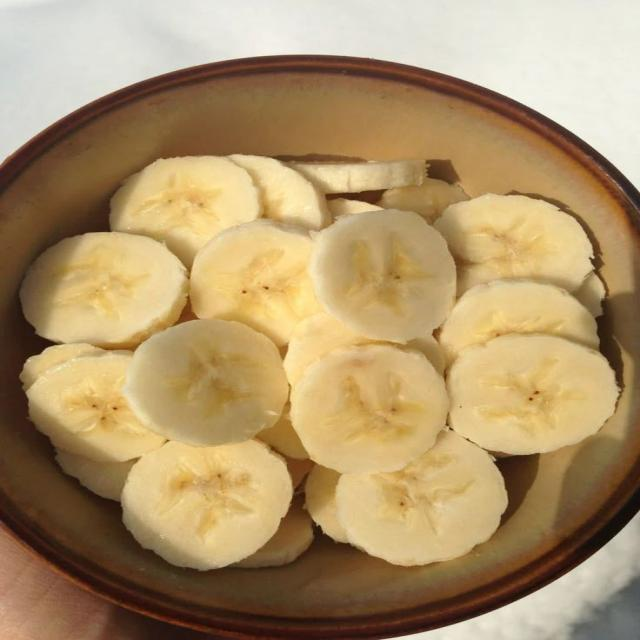banana slice: (336, 431, 507, 565), (121, 440, 292, 570), (123, 320, 288, 445), (447, 334, 618, 454), (291, 345, 448, 472), (309, 210, 455, 343), (20, 233, 187, 348), (110, 156, 261, 267), (191, 220, 319, 346), (434, 195, 593, 295), (27, 352, 164, 462), (439, 279, 599, 363), (229, 155, 330, 230), (284, 313, 375, 386), (234, 497, 313, 568), (290, 160, 426, 193), (56, 450, 137, 501), (20, 343, 103, 391), (379, 178, 468, 222), (305, 465, 348, 542), (257, 404, 308, 460), (574, 272, 606, 317), (327, 199, 382, 219), (285, 457, 314, 490), (176, 302, 197, 323)
